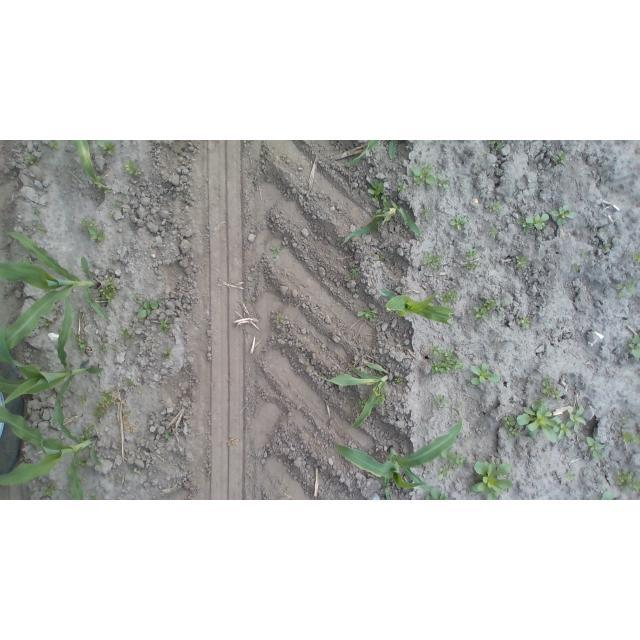Maize: (0, 232, 116, 370), (332, 407, 465, 500), (1, 317, 108, 422), (0, 393, 98, 499), (314, 364, 395, 425), (341, 199, 429, 248), (381, 287, 455, 332), (76, 140, 117, 193)
Weeds: (504, 401, 560, 449), (474, 460, 514, 499), (554, 407, 588, 440), (410, 167, 450, 195), (430, 348, 462, 377), (79, 215, 107, 245), (133, 293, 160, 322), (466, 364, 498, 387), (473, 295, 500, 320), (440, 454, 467, 479), (94, 389, 116, 419), (422, 250, 447, 275), (584, 435, 606, 462), (614, 273, 636, 299), (518, 214, 547, 233), (365, 176, 384, 204), (542, 375, 562, 400), (615, 470, 640, 490), (465, 248, 484, 272), (448, 214, 469, 235), (550, 205, 570, 227), (629, 329, 640, 363), (422, 487, 450, 500), (357, 307, 379, 323), (439, 286, 457, 305), (621, 428, 639, 447), (98, 142, 118, 159), (270, 242, 287, 262), (124, 163, 145, 178), (29, 220, 47, 236), (513, 254, 531, 269), (159, 318, 176, 332), (162, 347, 176, 364), (487, 140, 504, 153), (557, 151, 568, 170), (349, 263, 359, 282), (44, 487, 61, 498), (120, 326, 133, 340), (580, 246, 590, 263), (78, 339, 91, 352), (490, 202, 503, 215), (47, 140, 61, 152), (25, 154, 39, 166), (565, 470, 577, 483), (519, 314, 530, 328), (102, 291, 118, 300), (162, 429, 174, 440), (602, 242, 612, 254), (274, 314, 284, 326), (633, 251, 640, 266), (108, 208, 116, 220), (31, 206, 41, 215), (572, 265, 581, 273)
